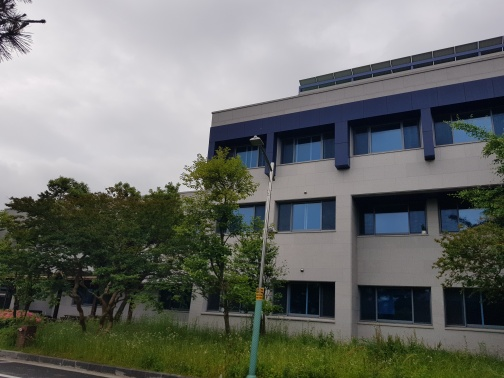College of Social Sciences: (192, 23, 503, 361), (257, 83, 451, 184)
